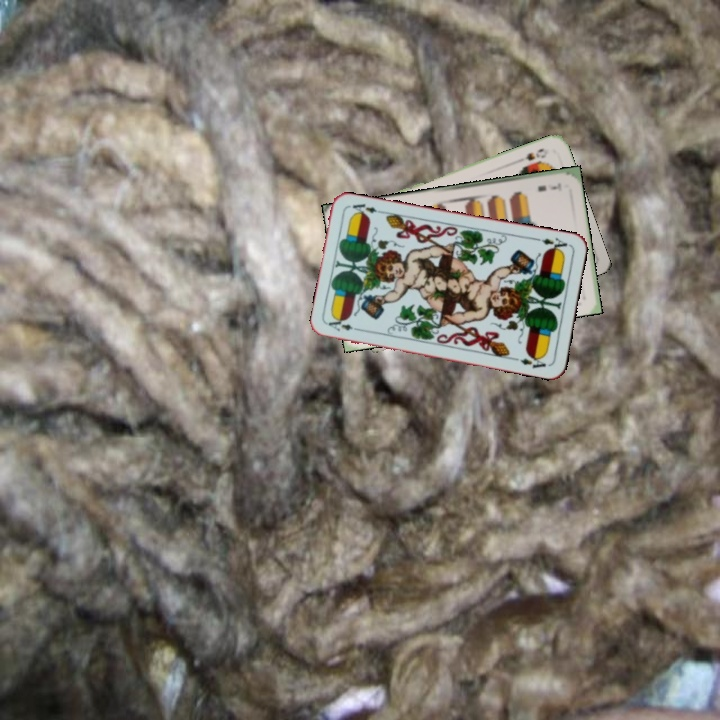E7: (533, 179, 564, 194)
EA: (531, 234, 571, 254), (324, 317, 365, 334)
SO: (521, 144, 550, 163)
